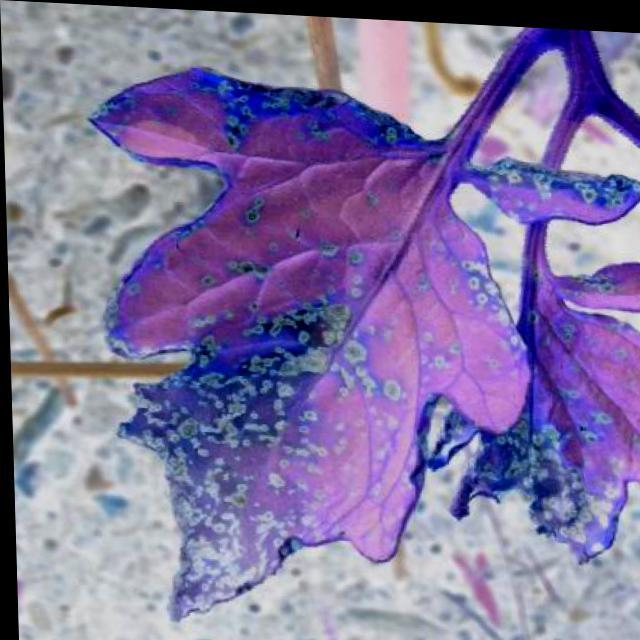Tomato Septoria spot leaf: (74, 45, 639, 639), (381, 236, 639, 576)
